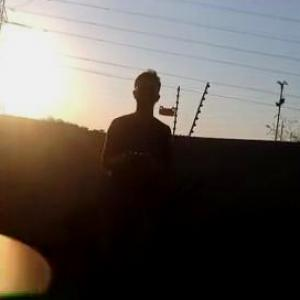follow: (89, 65, 173, 299)
